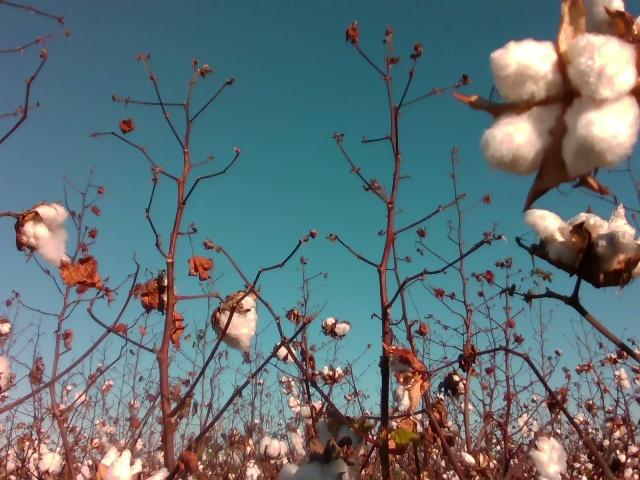cotton_ready: (480, 33, 640, 174), (520, 204, 640, 279), (19, 202, 75, 269), (213, 293, 257, 354), (390, 353, 421, 414), (528, 434, 568, 480), (312, 419, 360, 456), (277, 458, 348, 480), (101, 447, 146, 480), (586, 0, 625, 25), (0, 354, 12, 392)
